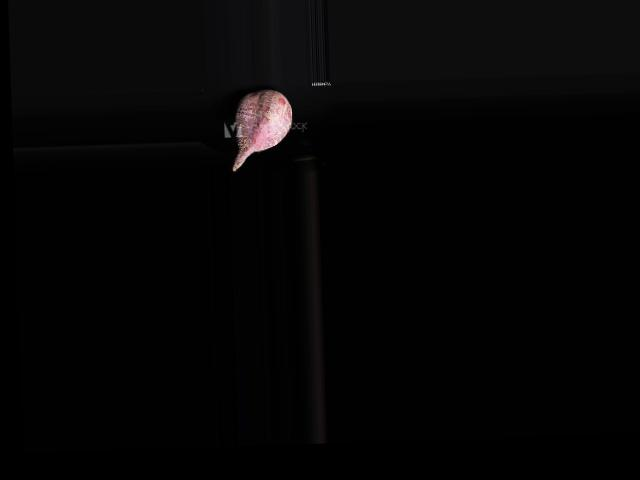beet: (230, 89, 294, 170)
